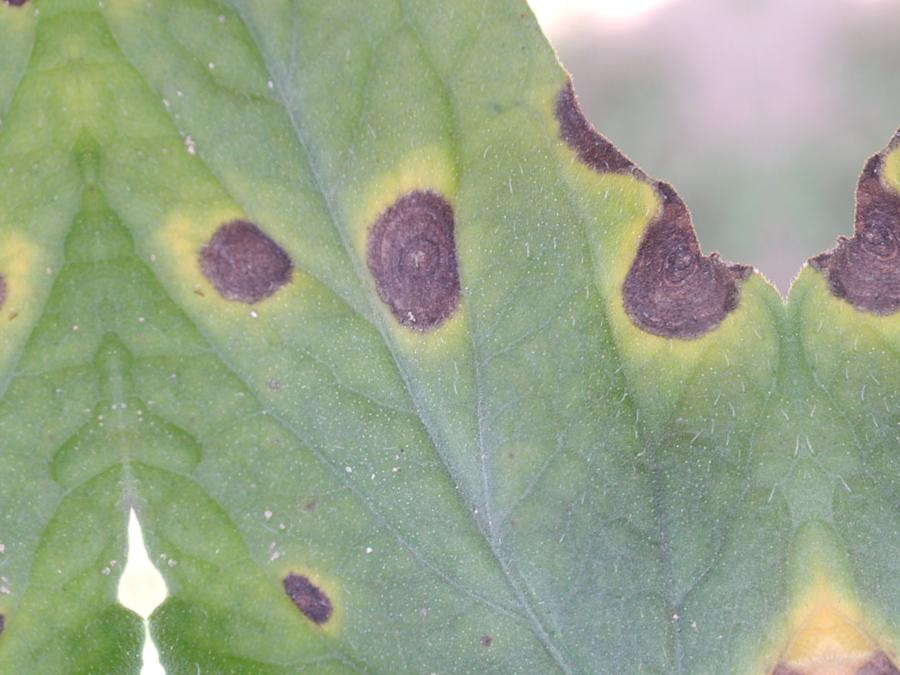Tomato Early blight leaf: (72, 0, 831, 675)
